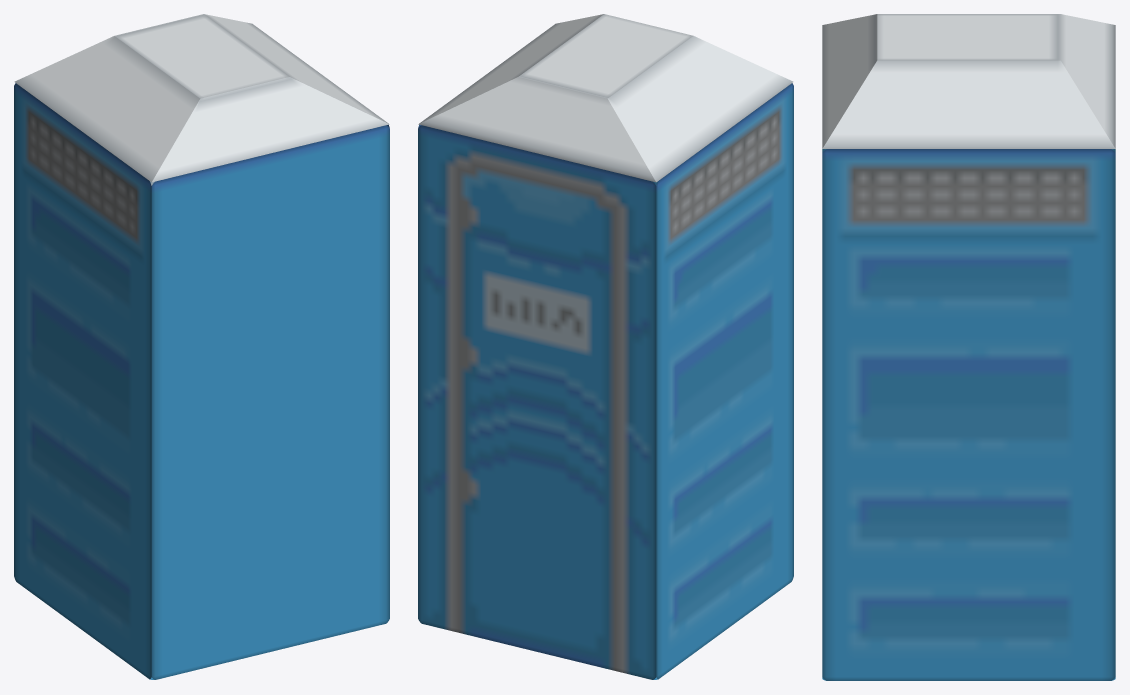
Rendered from PortaPotty.fbx.
3 views of the same model, side by side, from view 1: azimuth 30°, elevation 25°; view 2: azimuth 150°, elevation 25°; view 3: azimuth 270°, elevation 25° (orthographic). The views are drawn at different scales.
Parts seen in each view (by area): view 1: PortaPotty; view 2: PortaPotty; view 3: PortaPotty.
Boxes of the visible parts, left/top/right/bottom form: PortaPotty: left=14, top=14, right=389, bottom=679; PortaPotty: left=418, top=14, right=793, bottom=679; PortaPotty: left=822, top=14, right=1115, bottom=680.
Size of the model in its own units: 100 by 219 by 100.
1 material, 1 textured.
